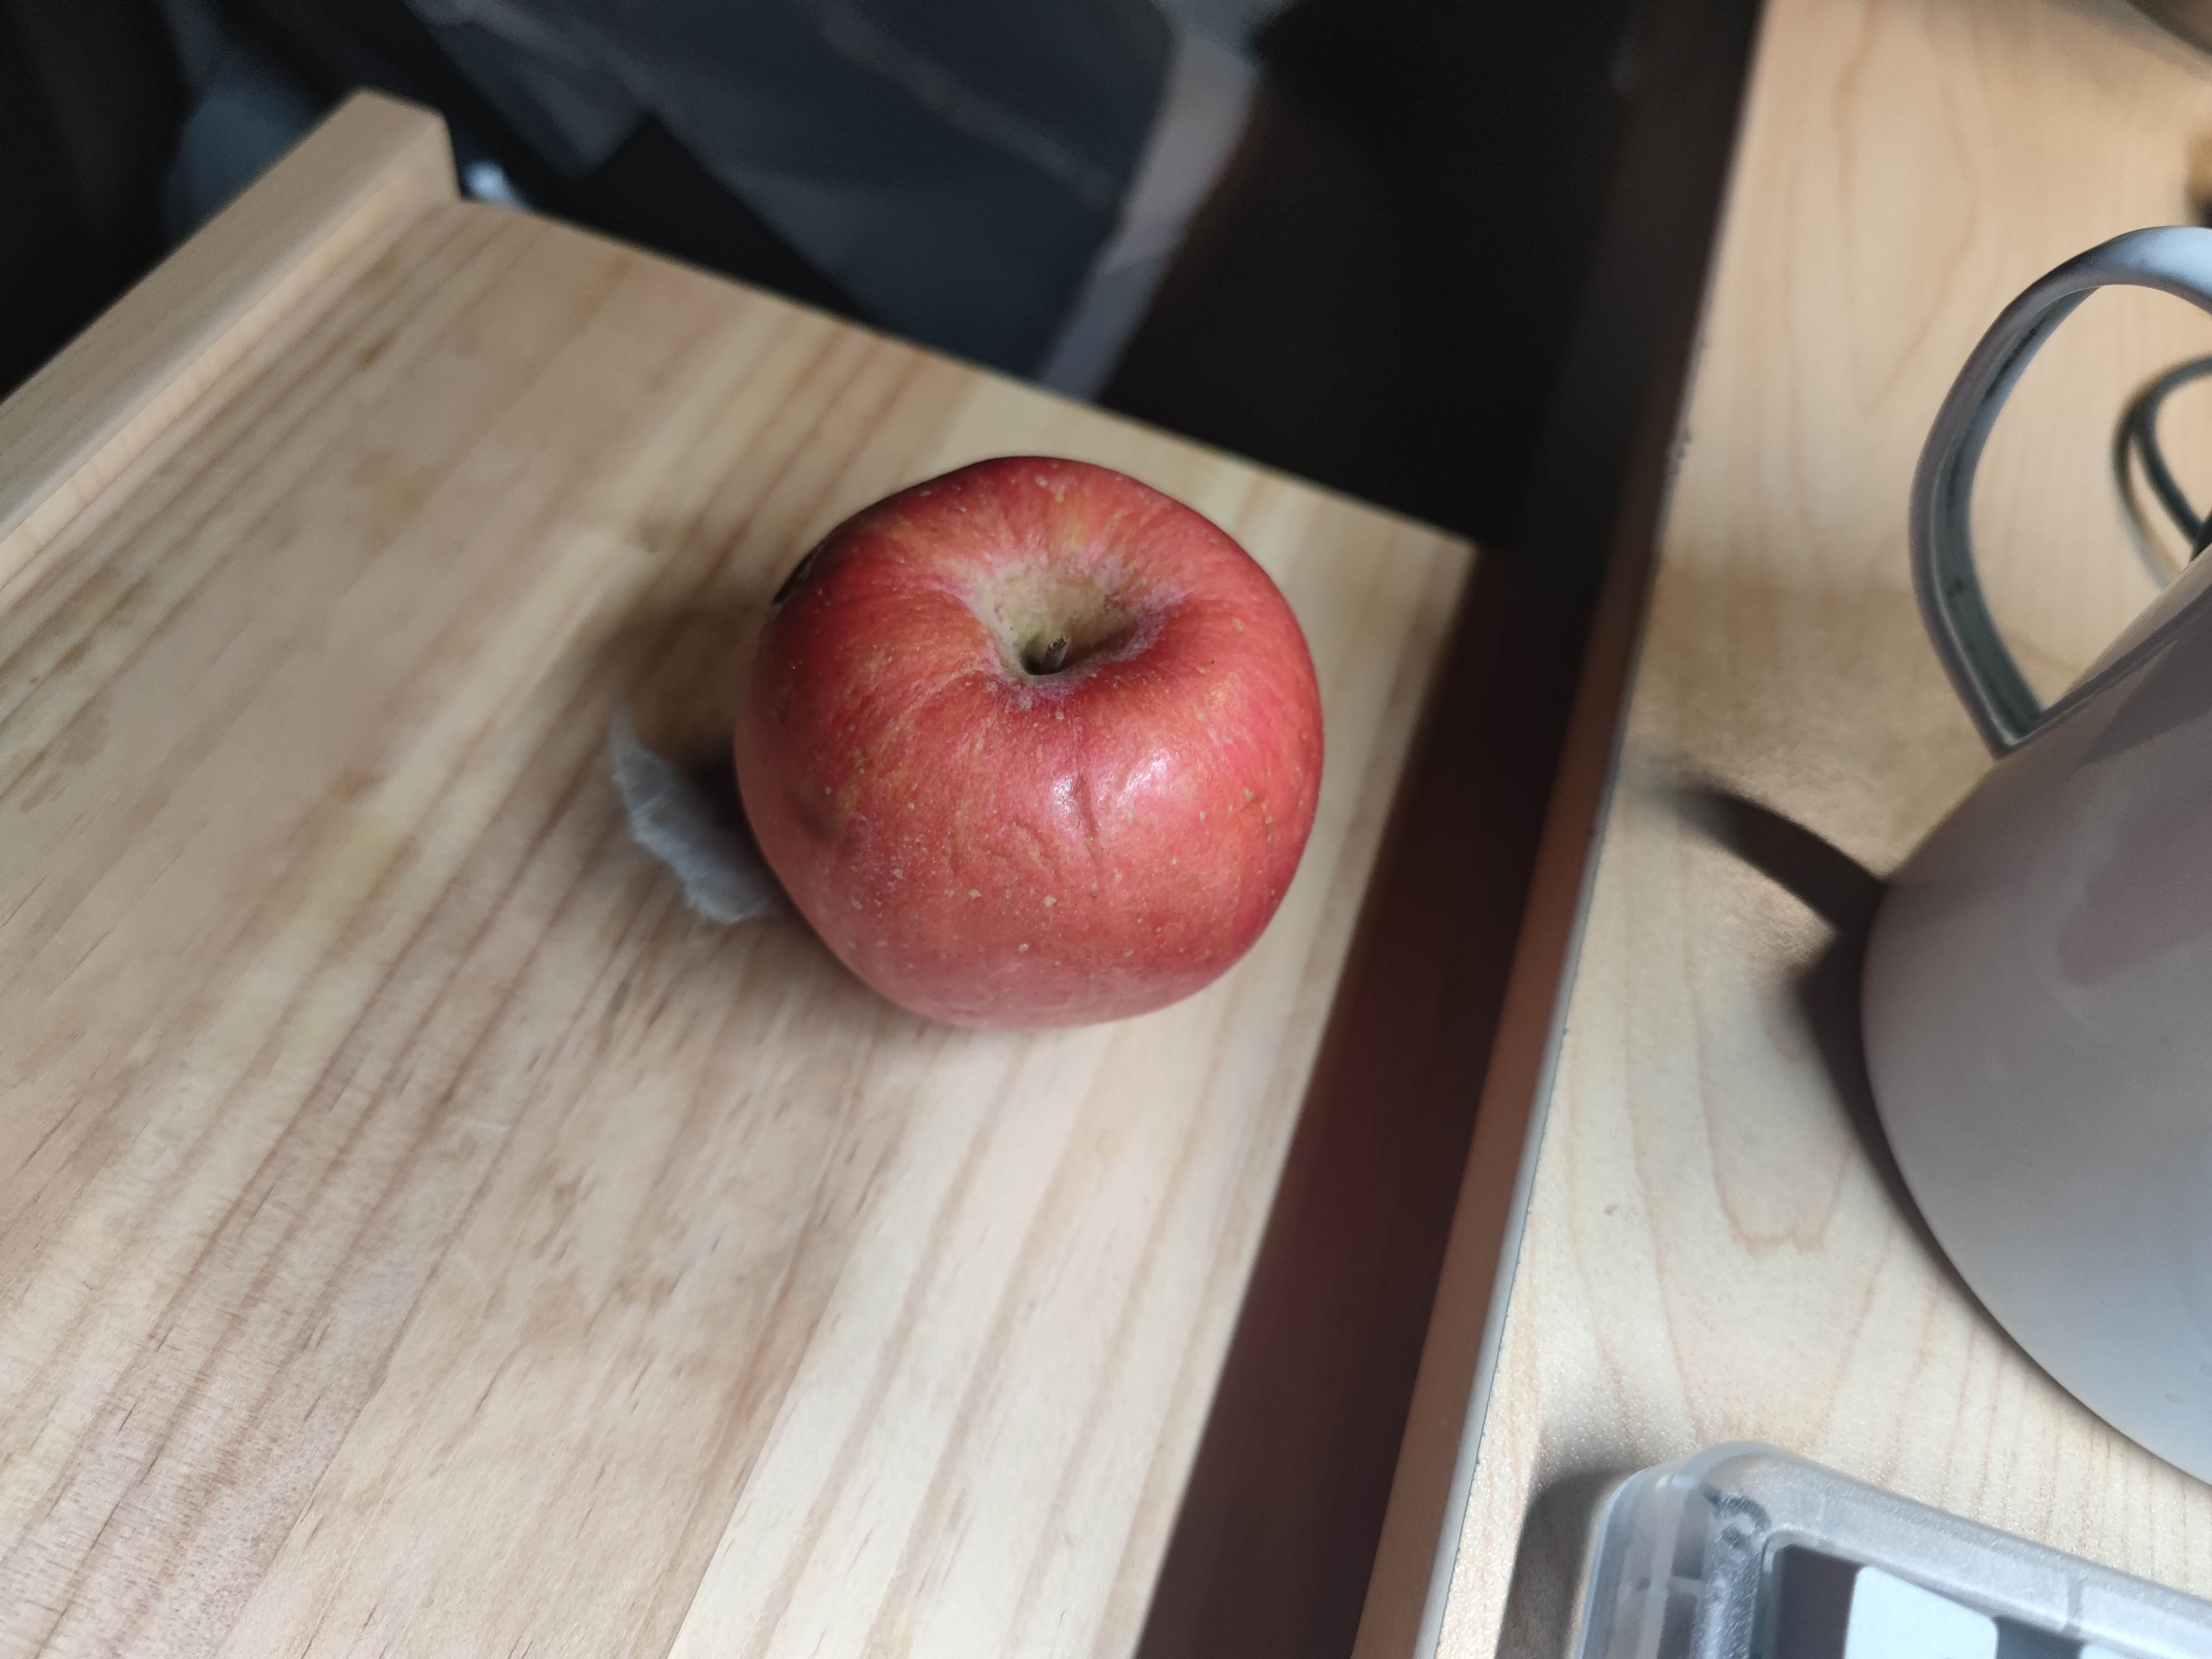apple: (728, 451, 1332, 1047)
